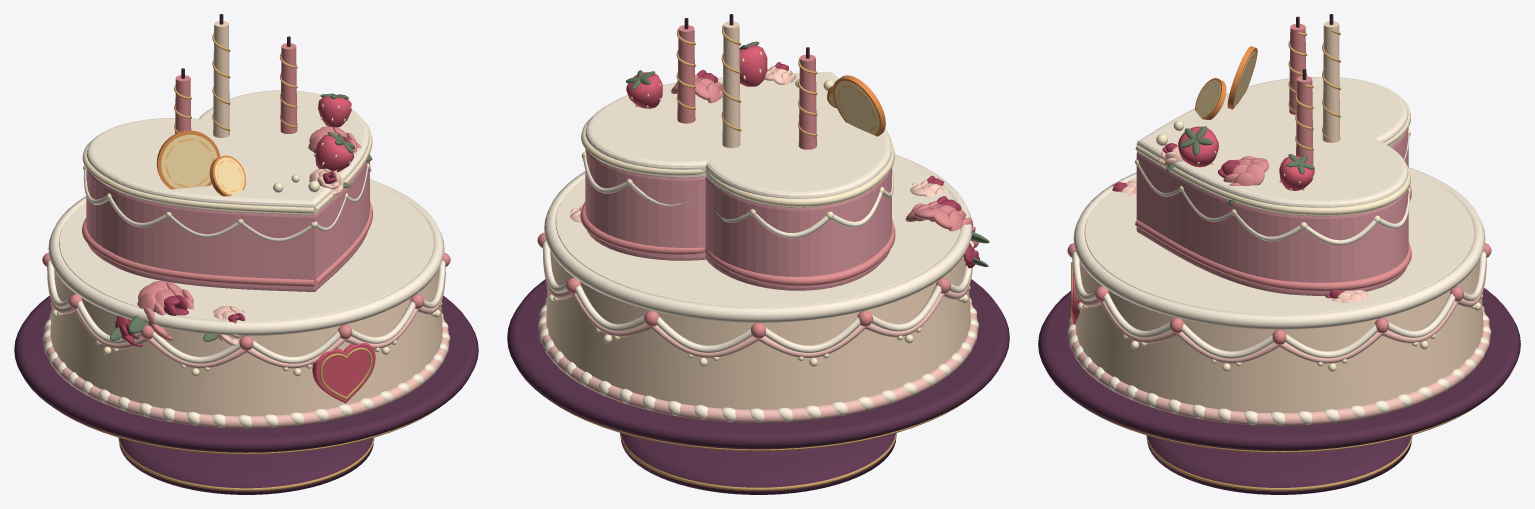
The model's file is cake-citrus.glb.
3 views of the same model, side by side, from view 1: azimuth 30°, elevation 25°; view 2: azimuth 150°, elevation 25°; view 3: azimuth 270°, elevation 25° (orthographic). The views are drawn at different scales.
Visible parts, largest first — view 1: Strawberry heart birthday cake; view 2: Strawberry heart birthday cake; view 3: Strawberry heart birthday cake.
Part boxes in pixels (x1,y1,x2,y2): Strawberry heart birthday cake: (14, 14, 478, 494); Strawberry heart birthday cake: (507, 14, 1009, 494); Strawberry heart birthday cake: (1038, 14, 1520, 494).
Bounding box in the file's own units: 2.88 × 2.81 × 2.88.
